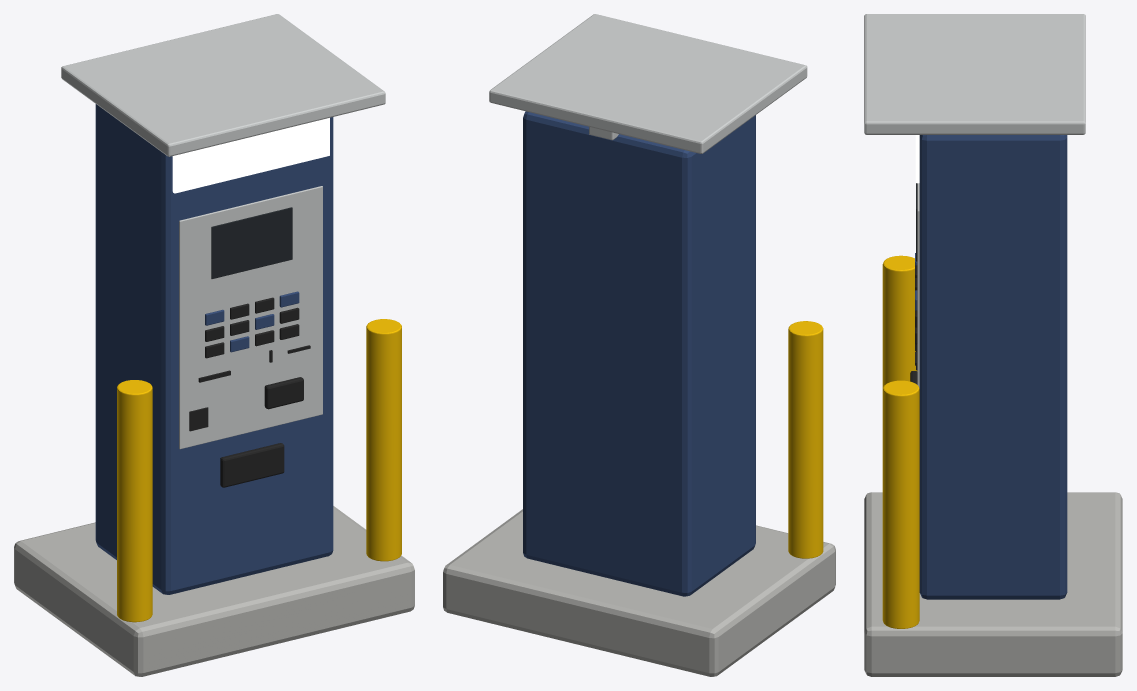
File: city-car-park-pay-station.glb
3 renders of one model, left to right at view 1: azimuth 30°, elevation 25°; view 2: azimuth 150°, elevation 25°; view 3: azimuth 270°, elevation 25°, orthographic. The views are drawn at different scales.
Visible parts, largest first — view 1: Assembly | Navy kiosk enamel, Assembly | Brushed stainless trim, Assembly | Concrete island, Assembly | Yellow guard paint.001, Assembly | Yellow guard paint, Assembly | Lit header panel, Assembly | Slot shadow, Assembly | Dark LCD glass; view 2: Assembly | Navy kiosk enamel, Assembly | Concrete island, Assembly | Brushed stainless trim, Assembly | Yellow guard paint; view 3: Assembly | Navy kiosk enamel, Assembly | Brushed stainless trim, Assembly | Concrete island, Assembly | Yellow guard paint.001, Assembly | Yellow guard paint.
Boxes of the visible parts, bbox=[...] form: Assembly | Navy kiosk enamel: bbox=[95, 104, 333, 594]; Assembly | Brushed stainless trim: bbox=[61, 14, 385, 449]; Assembly | Concrete island: bbox=[14, 506, 414, 676]; Assembly | Yellow guard paint.001: bbox=[366, 319, 401, 561]; Assembly | Yellow guard paint: bbox=[117, 380, 152, 622]; Assembly | Lit header panel: bbox=[172, 118, 329, 193]; Assembly | Slot shadow: bbox=[189, 297, 310, 487]; Assembly | Dark LCD glass: bbox=[211, 207, 292, 278]; Assembly | Navy kiosk enamel: bbox=[523, 111, 755, 596]; Assembly | Concrete island: bbox=[443, 509, 835, 676]; Assembly | Brushed stainless trim: bbox=[489, 14, 807, 153]; Assembly | Yellow guard paint: bbox=[788, 321, 823, 558]; Assembly | Navy kiosk enamel: bbox=[915, 135, 1067, 599]; Assembly | Brushed stainless trim: bbox=[864, 14, 1085, 388]; Assembly | Concrete island: bbox=[864, 492, 1122, 676]; Assembly | Yellow guard paint.001: bbox=[882, 380, 919, 628]; Assembly | Yellow guard paint: bbox=[882, 255, 917, 388].
Bounding box in the file's own units: 0.9 × 1.62 × 0.7.
